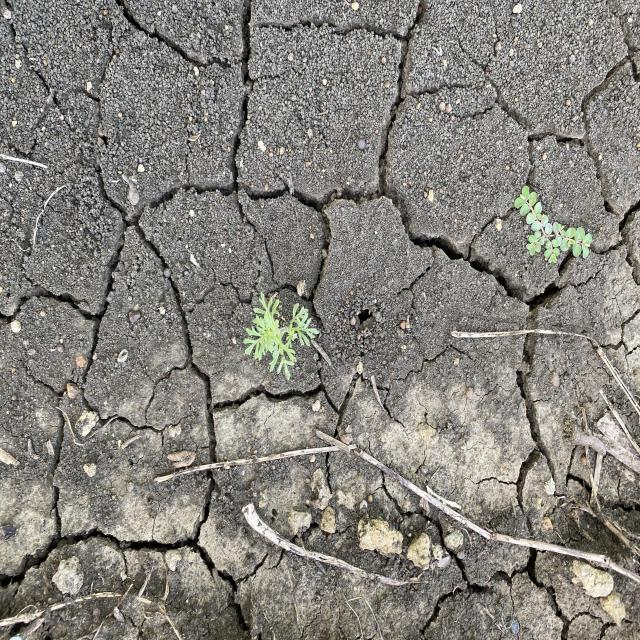Ragweed: (242, 290, 320, 382)
SpottedSpurge: (512, 185, 594, 267)
